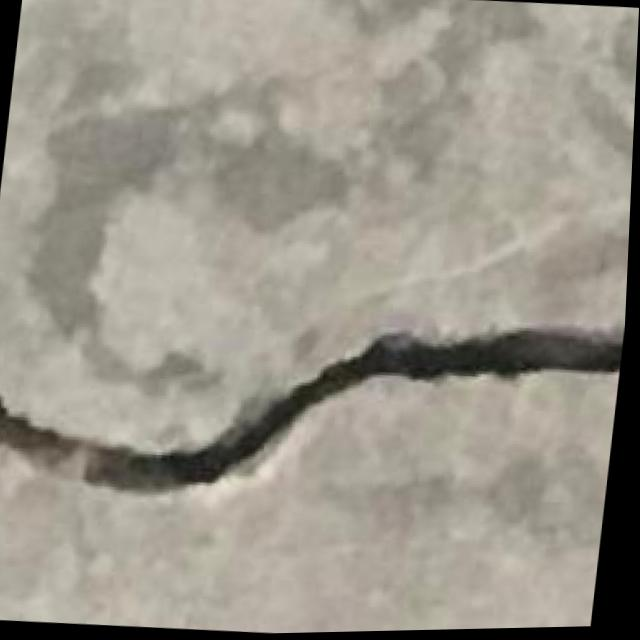Crack: (0, 288, 629, 546)
